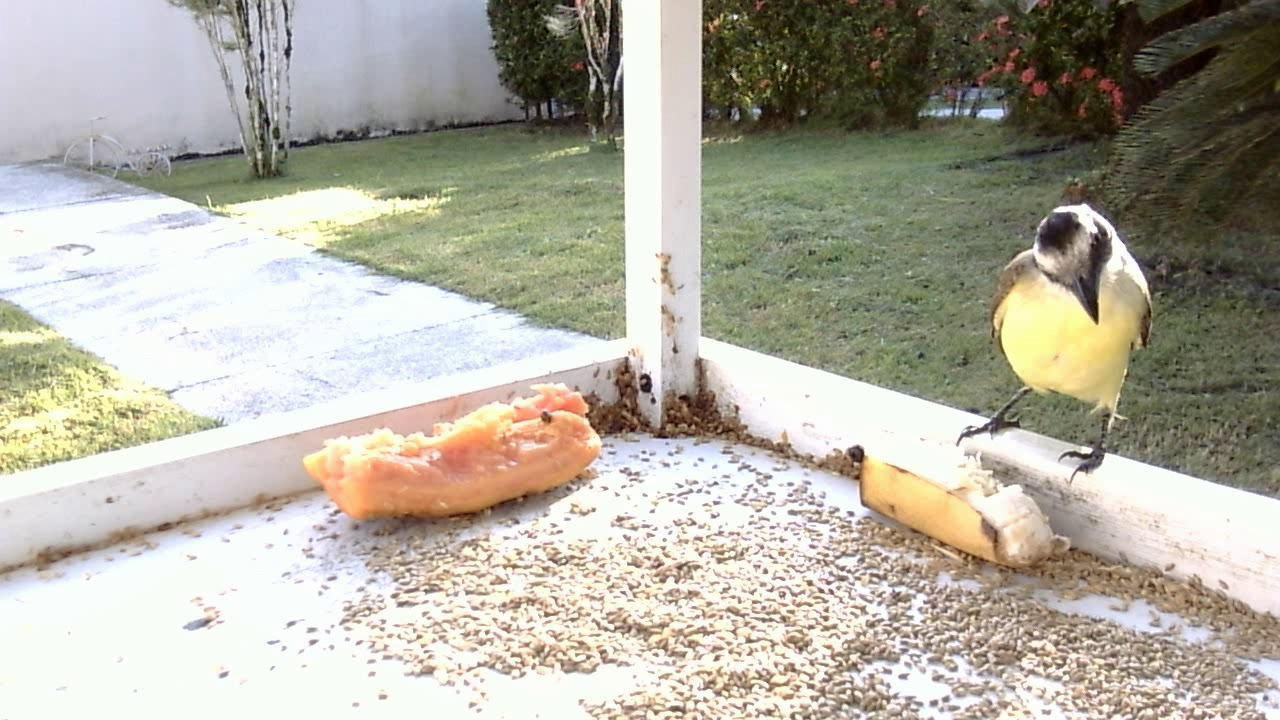bem_te_vi: (955, 187, 1166, 493)
